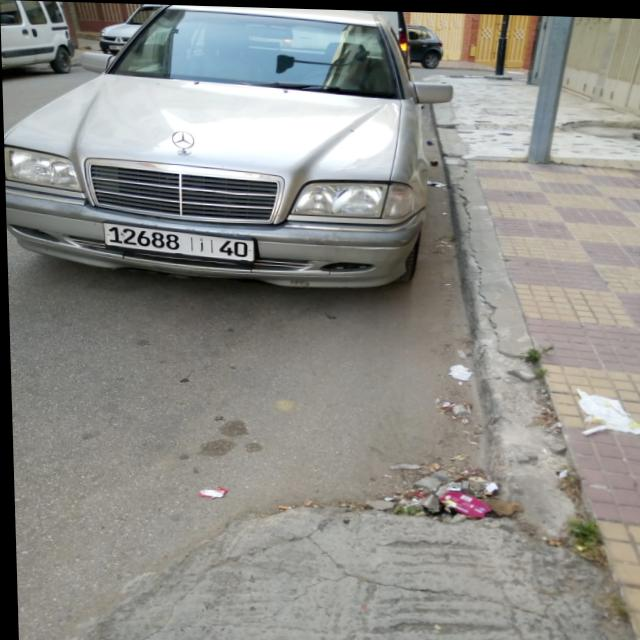License-Plate: (102, 223, 251, 260)
